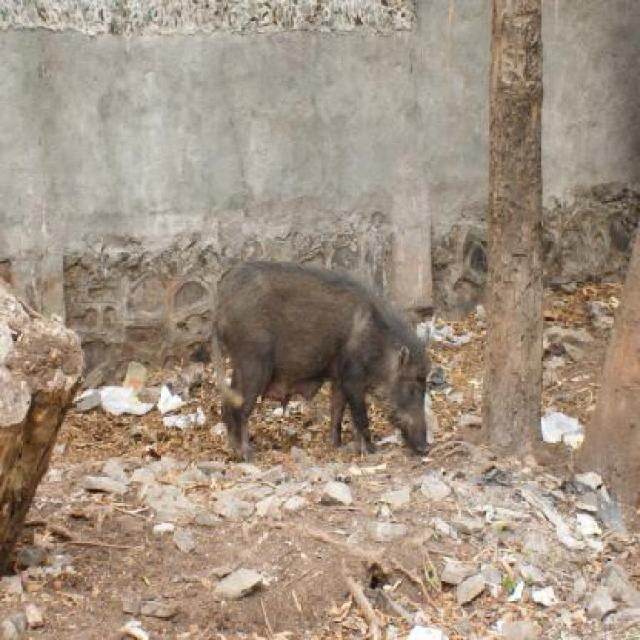pig: (206, 253, 432, 464)
